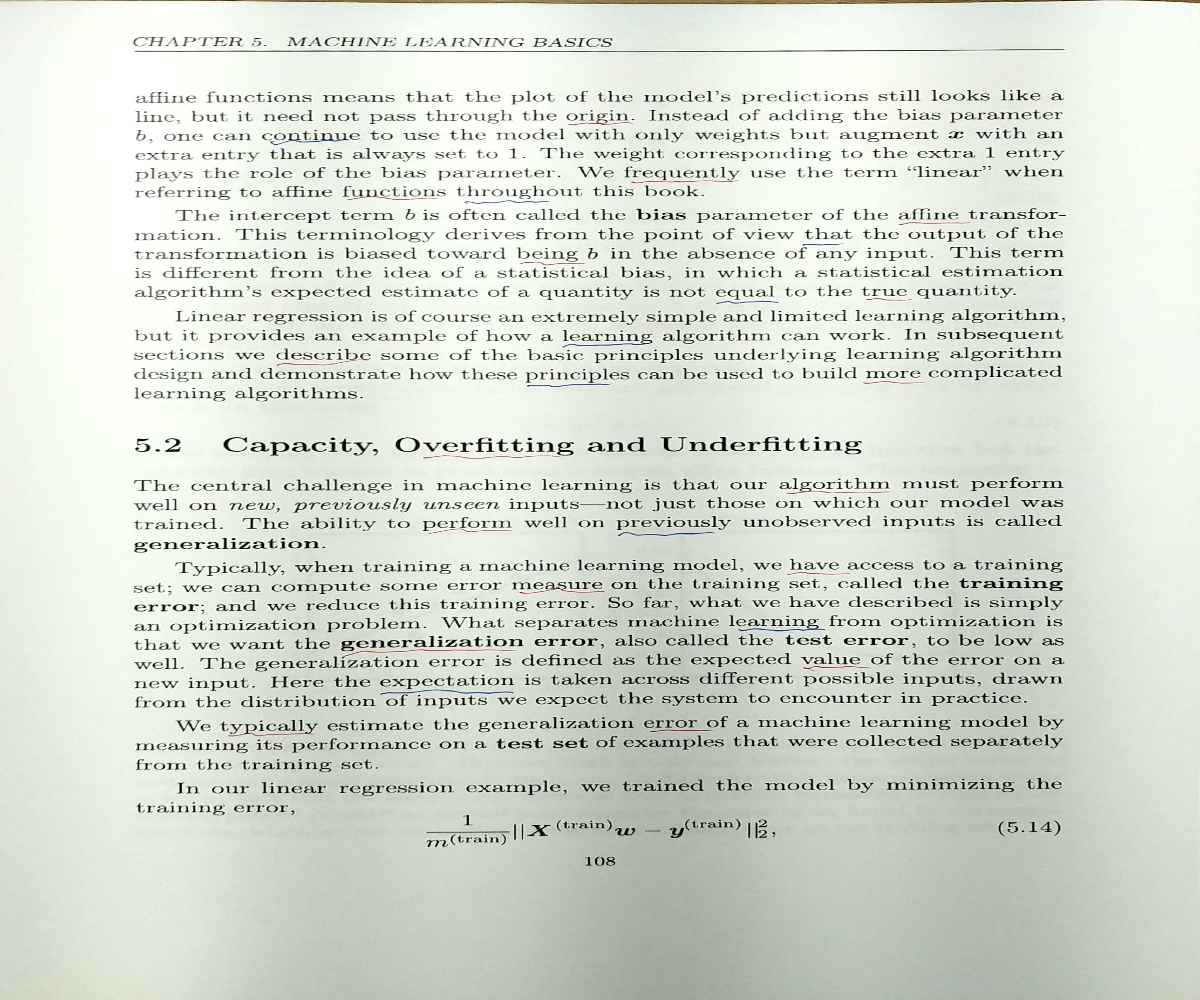underline: (340, 648, 519, 657), (630, 177, 741, 188), (782, 488, 891, 499), (421, 453, 568, 461), (377, 688, 516, 695), (617, 528, 713, 538), (345, 193, 437, 203), (896, 218, 975, 229), (273, 359, 369, 368), (560, 341, 653, 350), (712, 298, 784, 309), (861, 378, 927, 390), (462, 198, 553, 206), (426, 527, 516, 535), (646, 726, 716, 736), (524, 381, 611, 389), (736, 626, 828, 633), (516, 588, 606, 595), (517, 257, 586, 266), (266, 138, 351, 145), (565, 119, 635, 127), (224, 730, 316, 736), (861, 295, 915, 305), (787, 569, 850, 577), (801, 239, 844, 249), (801, 664, 872, 670)
